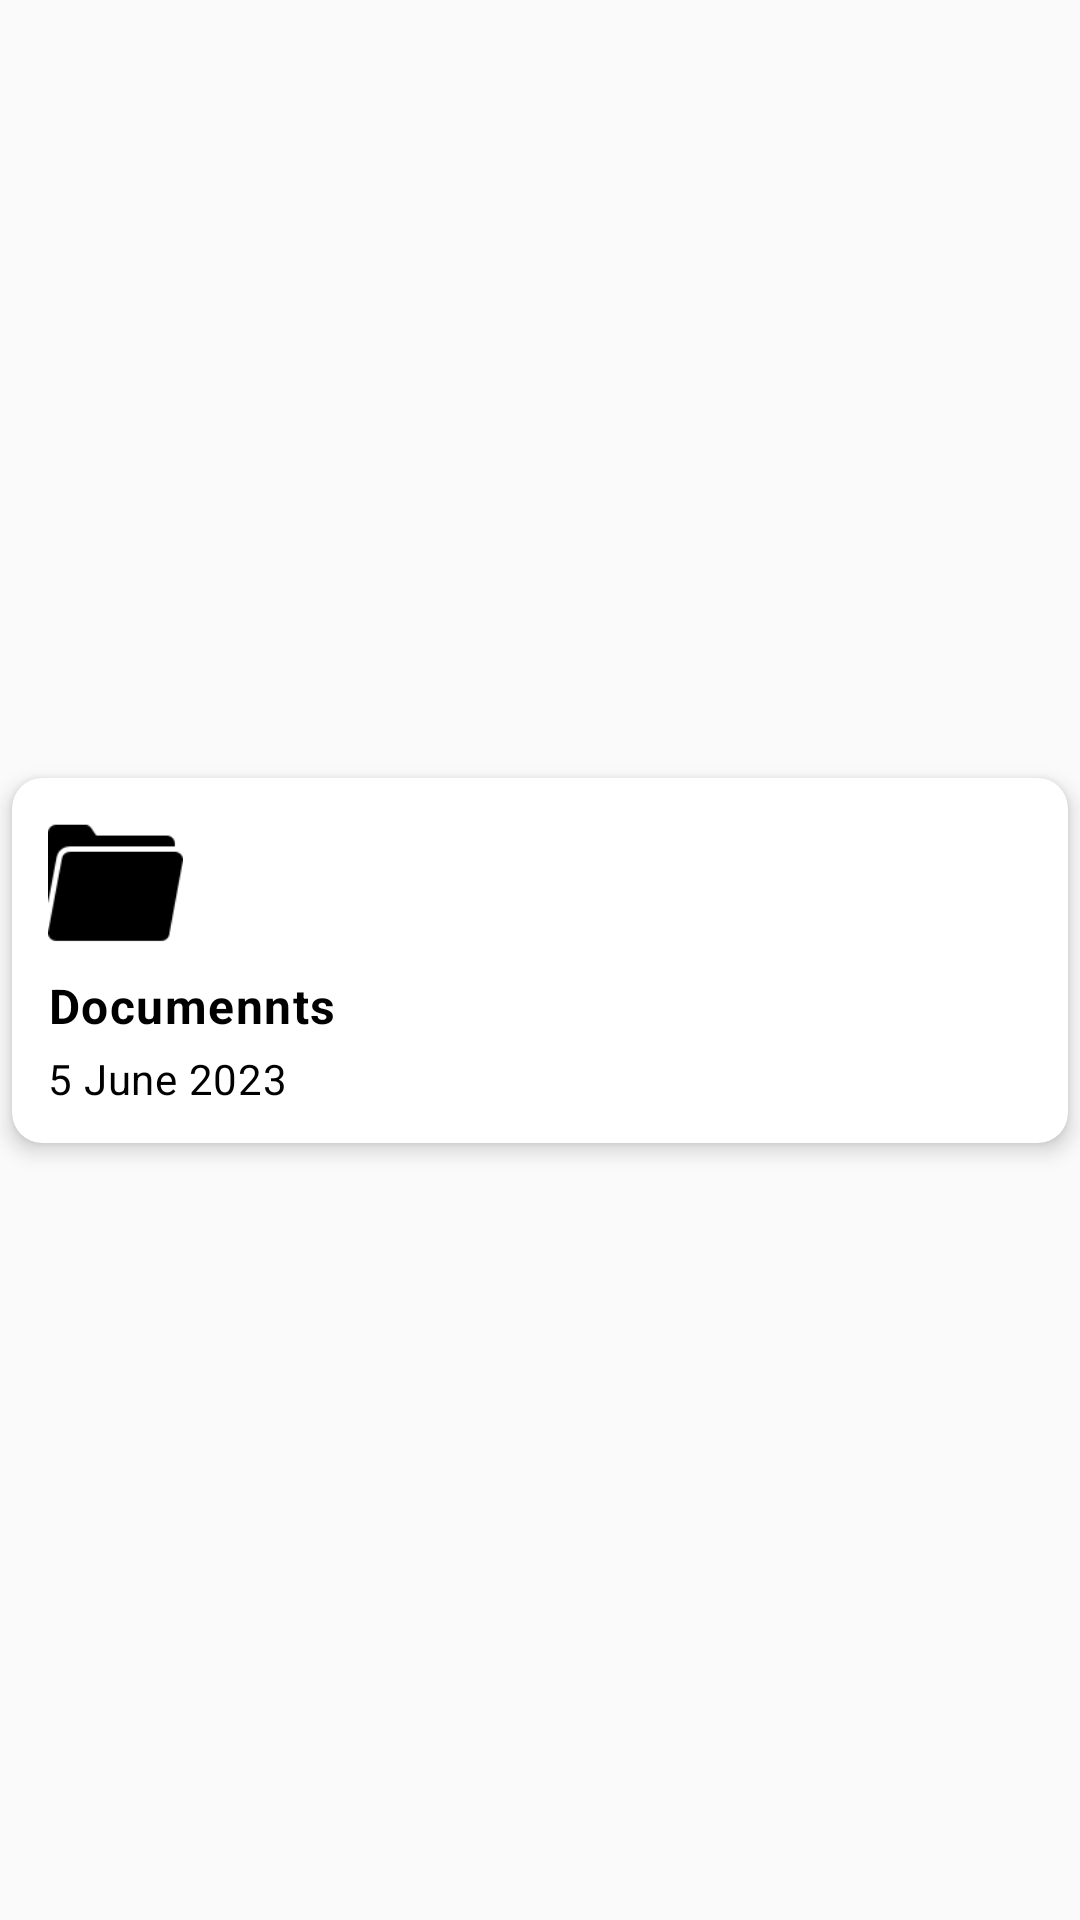

Named icons in this screenshot (1080x1920) and their bounding boxes, bbox=(x1, y1, x2, y2):
folder: bbox=(48, 824, 183, 941)
